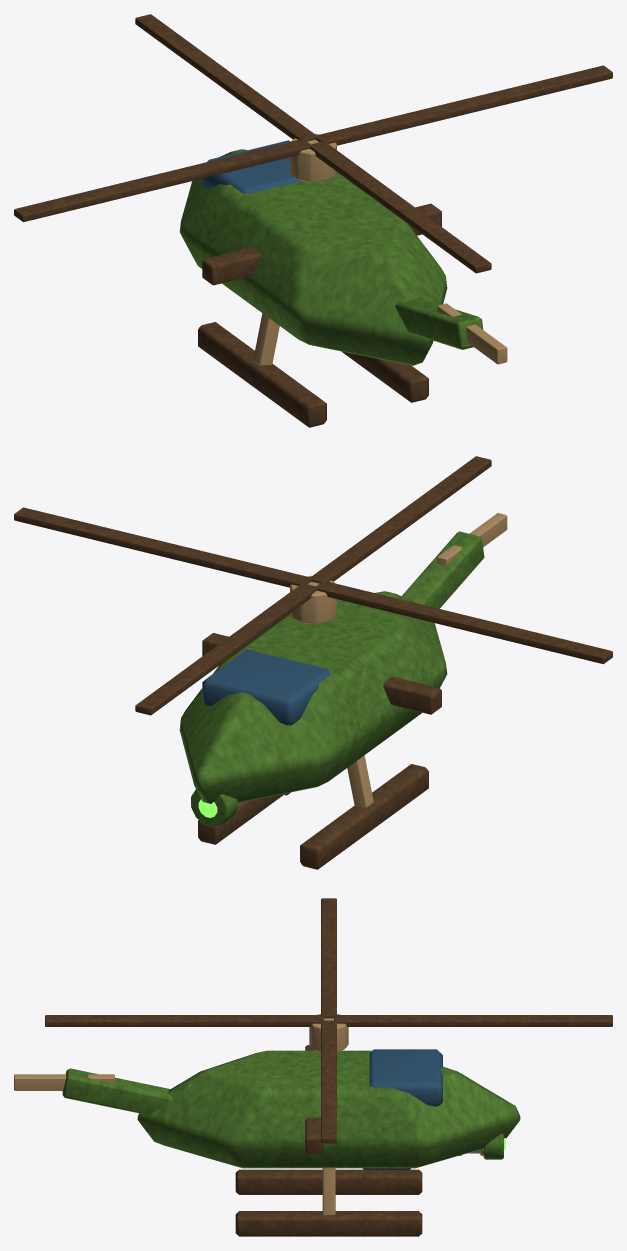
File: vael_cobra.gltf
The picture shows the model from 3 angles, top to bottom: view 1: azimuth 30°, elevation 25°; view 2: azimuth 150°, elevation 25°; view 3: azimuth 270°, elevation 25°; orthographic projection. The views are drawn at different scales.
Visible parts, largest first — view 1: Root.037_Geometry, Rotor_0.002_Geometry, TailRotor_Geometry; view 2: Root.037_Geometry, Rotor_0.002_Geometry, GunRecoil.013_Geometry, TailRotor_Geometry; view 3: Root.037_Geometry, Rotor_0.002_Geometry, TailRotor_Geometry, GunRecoil.013_Geometry.
Boxes of the visible parts, x1=… form: Root.037_Geometry: x1=179, y1=140, x2=483, y2=427; Rotor_0.002_Geometry: x1=14, y1=14, x2=612, y2=273; TailRotor_Geometry: x1=437, y1=303, x2=507, y2=364; Root.037_Geometry: x1=179, y1=531, x2=484, y2=869; Rotor_0.002_Geometry: x1=14, y1=456, x2=612, y2=715; GunRecoil.013_Geometry: x1=191, y1=789, x2=245, y2=826; TailRotor_Geometry: x1=437, y1=513, x2=507, y2=565; Root.037_Geometry: x1=62, y1=1045, x2=520, y2=1236; Rotor_0.002_Geometry: x1=45, y1=898, x2=612, y2=1143; TailRotor_Geometry: x1=14, y1=1074, x2=114, y2=1090; GunRecoil.013_Geometry: x1=459, y1=1133, x2=505, y2=1159.
Bounding box in the file's own units: 3.93 × 1.49 × 4.14.
Materials: 7 (2 with a texture image).
